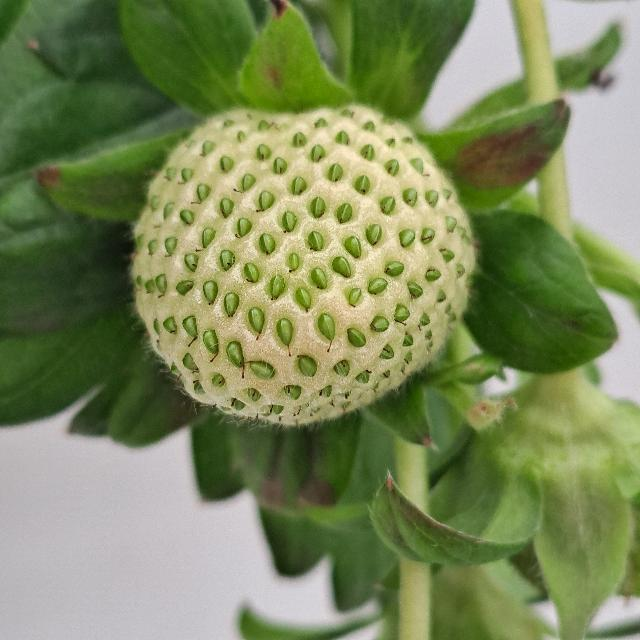Health_25: (130, 104, 474, 426)
